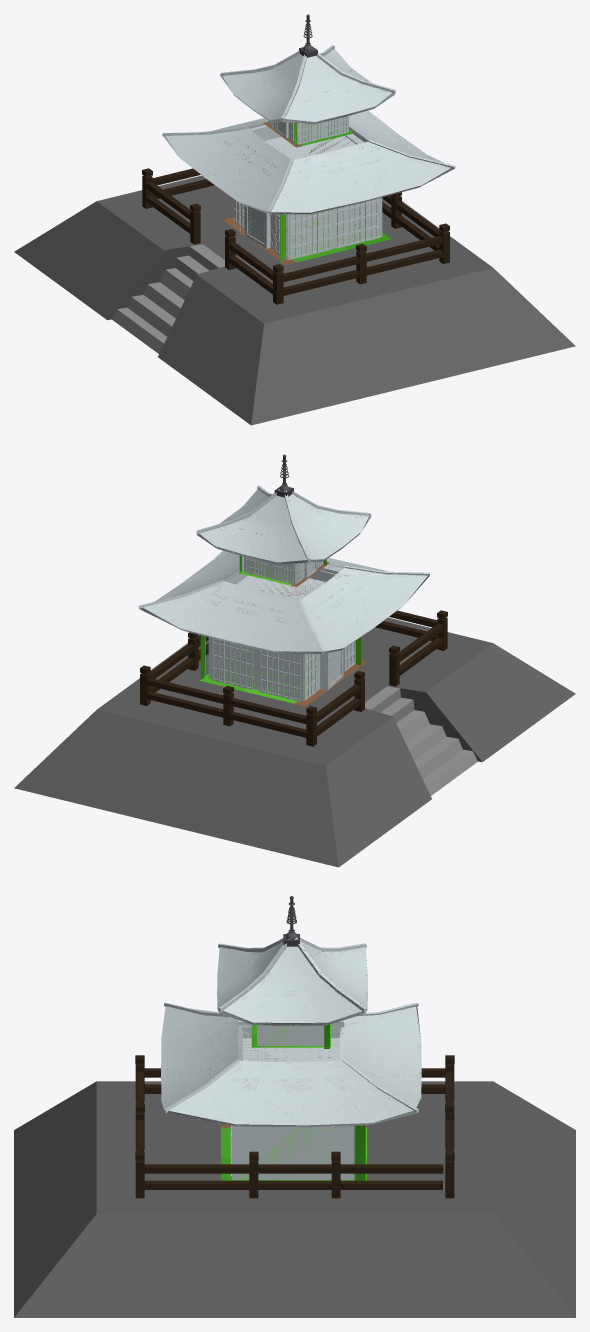
Rendered from houme015_2.fbx.
3 views of the same model, one above another, from view 1: azimuth 30°, elevation 25°; view 2: azimuth 150°, elevation 25°; view 3: azimuth 270°, elevation 25° (orthographic). The views are drawn at different scales.
Parts seen in each view (by area): view 1: foundation_15_1_2, houme15_2, fence_15_1_2; view 2: foundation_15_1_2, houme15_2, fence_15_1_2; view 3: foundation_15_1_2, houme15_2, fence_15_1_2.
Boxes of the visible parts, x1=… form: foundation_15_1_2: x1=14, y1=174, x2=575, y2=425; houme15_2: x1=162, y1=45, x2=455, y2=264; fence_15_1_2: x1=142, y1=168, x2=449, y2=304; foundation_15_1_2: x1=14, y1=617, x2=575, y2=867; houme15_2: x1=138, y1=485, x2=429, y2=706; fence_15_1_2: x1=140, y1=610, x2=447, y2=746; foundation_15_1_2: x1=14, y1=1081, x2=575, y2=1317; houme15_2: x1=161, y1=937, x2=421, y2=1180; fence_15_1_2: x1=135, y1=1055, x2=454, y2=1198.
Bounding box in the file's own units: 1870 × 1555 × 2365.
